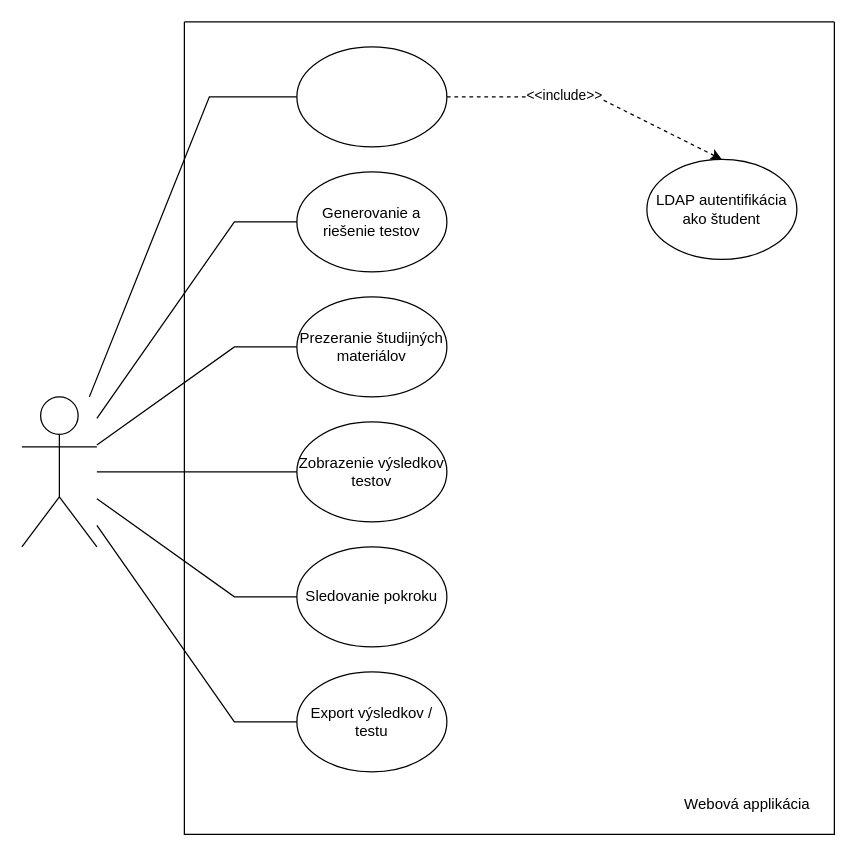
Image size: 856x856. Some labels were removed from this diagram. The shapes that lost their labels are listed below. From the top down, each one's box as (x1, y1, x2, y2) in pixels, then its label:
(296, 46, 447, 147): Prihlásenie do systému
(21, 396, 97, 547): Študent
